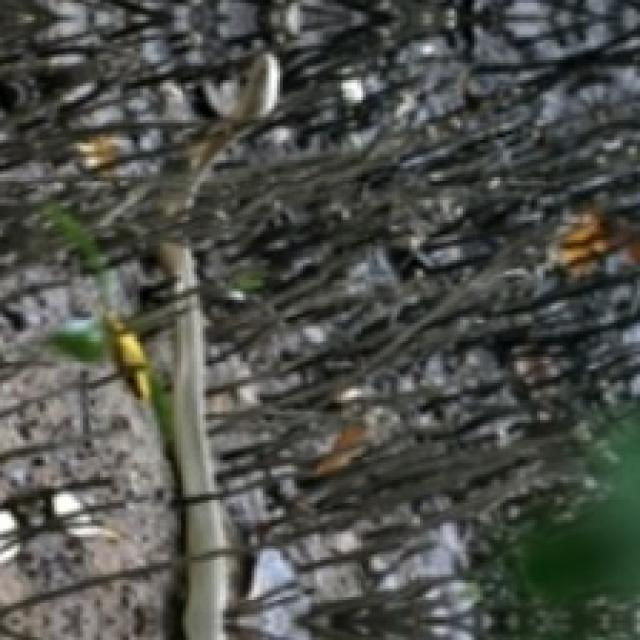king cobra: (158, 51, 281, 639)
